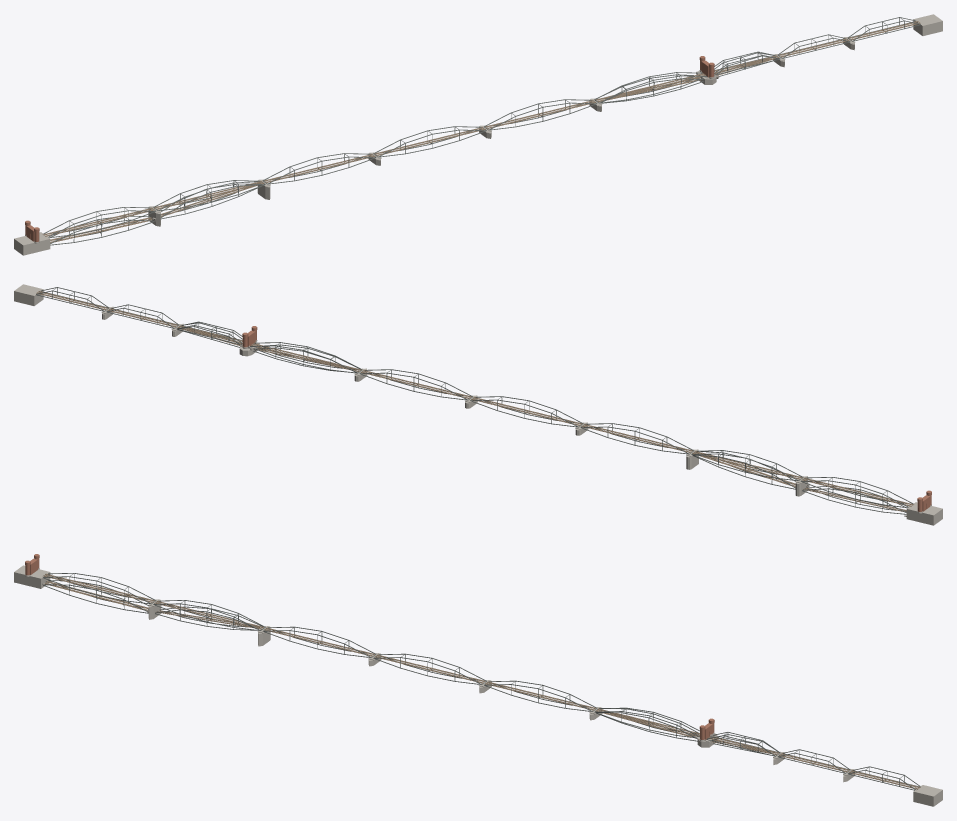
File: bridge_rail_1891_1912.lod2.glb
The picture shows the model from 3 angles, top to bottom: view 1: azimuth 30°, elevation 25°; view 2: azimuth 150°, elevation 25°; view 3: azimuth 330°, elevation 25°; orthographic projection.
Parts seen in each view (by area): view 1: rail_span_05, rail_span_04, rail_span_03, rail_span_02, rail_span_01, rail_span_06, rail_span_01_collapsed, rail_span_02_collapsed, rail_span_06_collapsed, rail_span_09, rail_span_08, rail_support_00 (+1 smaller); view 2: rail_span_05, rail_span_04, rail_span_03, rail_span_01, rail_span_02, rail_span_06, rail_span_02_collapsed, rail_span_01_collapsed, rail_span_06_collapsed, rail_span_09, rail_span_08, rail_support_00 (+1 smaller); view 3: rail_span_03, rail_span_05, rail_span_04, rail_span_01, rail_span_02, rail_span_01_collapsed, rail_span_06, rail_span_02_collapsed, rail_span_06_collapsed, rail_span_07, rail_span_08, rail_span_09.
Boxes of the visible parts, bbox=[...] form: rail_span_05: bbox=[484, 99, 597, 130]; rail_span_04: bbox=[373, 126, 486, 157]; rail_span_03: bbox=[262, 153, 376, 184]; rail_span_02: bbox=[153, 180, 265, 210]; rail_span_01: bbox=[43, 207, 156, 237]; rail_span_06: bbox=[595, 72, 707, 103]; rail_span_01_collapsed: bbox=[50, 215, 154, 245]; rail_span_02_collapsed: bbox=[161, 181, 264, 219]; rail_span_06_collapsed: bbox=[594, 74, 703, 103]; rail_span_09: bbox=[847, 17, 920, 41]; rail_span_08: bbox=[777, 34, 850, 58]; rail_support_00: bbox=[14, 232, 50, 255]; rail_span_05: bbox=[359, 369, 472, 400]; rail_span_04: bbox=[470, 396, 583, 427]; rail_span_03: bbox=[580, 423, 694, 454]; rail_span_01: bbox=[800, 477, 913, 507]; rail_span_02: bbox=[691, 450, 803, 480]; rail_span_06: bbox=[250, 342, 362, 373]; rail_span_02_collapsed: bbox=[692, 450, 795, 489]; rail_span_01_collapsed: bbox=[802, 486, 907, 514]; rail_span_06_collapsed: bbox=[253, 344, 361, 373]; rail_span_09: bbox=[36, 287, 109, 311]; rail_span_08: bbox=[106, 304, 179, 328]; rail_support_00: bbox=[906, 502, 942, 525]; rail_span_03: bbox=[262, 626, 376, 657]; rail_span_05: bbox=[484, 680, 597, 711]; rail_span_04: bbox=[373, 653, 486, 684]; rail_span_01: bbox=[43, 573, 156, 604]; rail_span_02: bbox=[153, 600, 265, 630]; rail_span_01_collapsed: bbox=[43, 580, 148, 613]; rail_span_06: bbox=[594, 707, 699, 738]; rail_span_02_collapsed: bbox=[155, 606, 263, 630]; rail_span_06_collapsed: bbox=[595, 708, 698, 741]; rail_span_07: bbox=[706, 732, 780, 756]; rail_span_08: bbox=[777, 749, 850, 773]; rail_span_09: bbox=[848, 766, 920, 790].
Bounding box in the file's own units: 1087 × 31 × 26.75.
